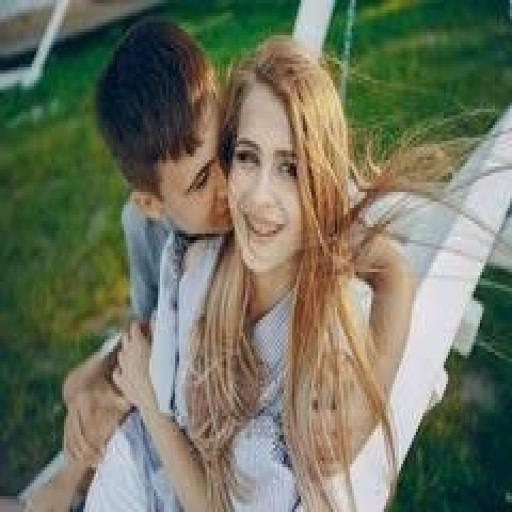sitting: (19, 16, 416, 509)
